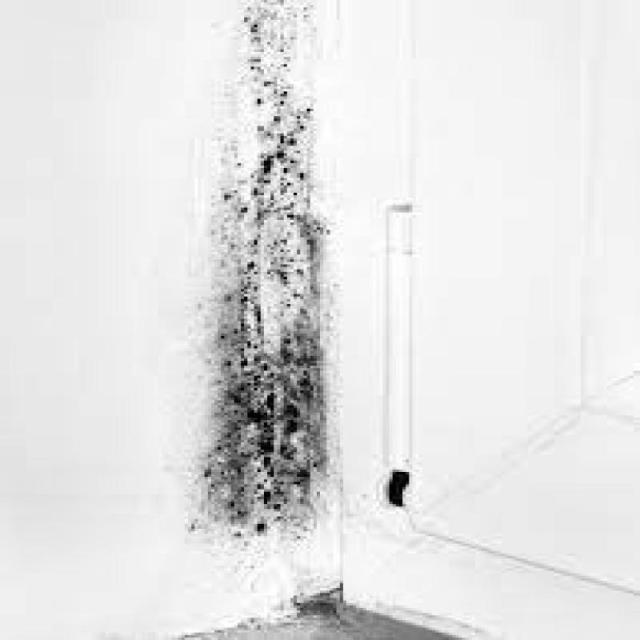stain marks: (174, 0, 358, 569)
